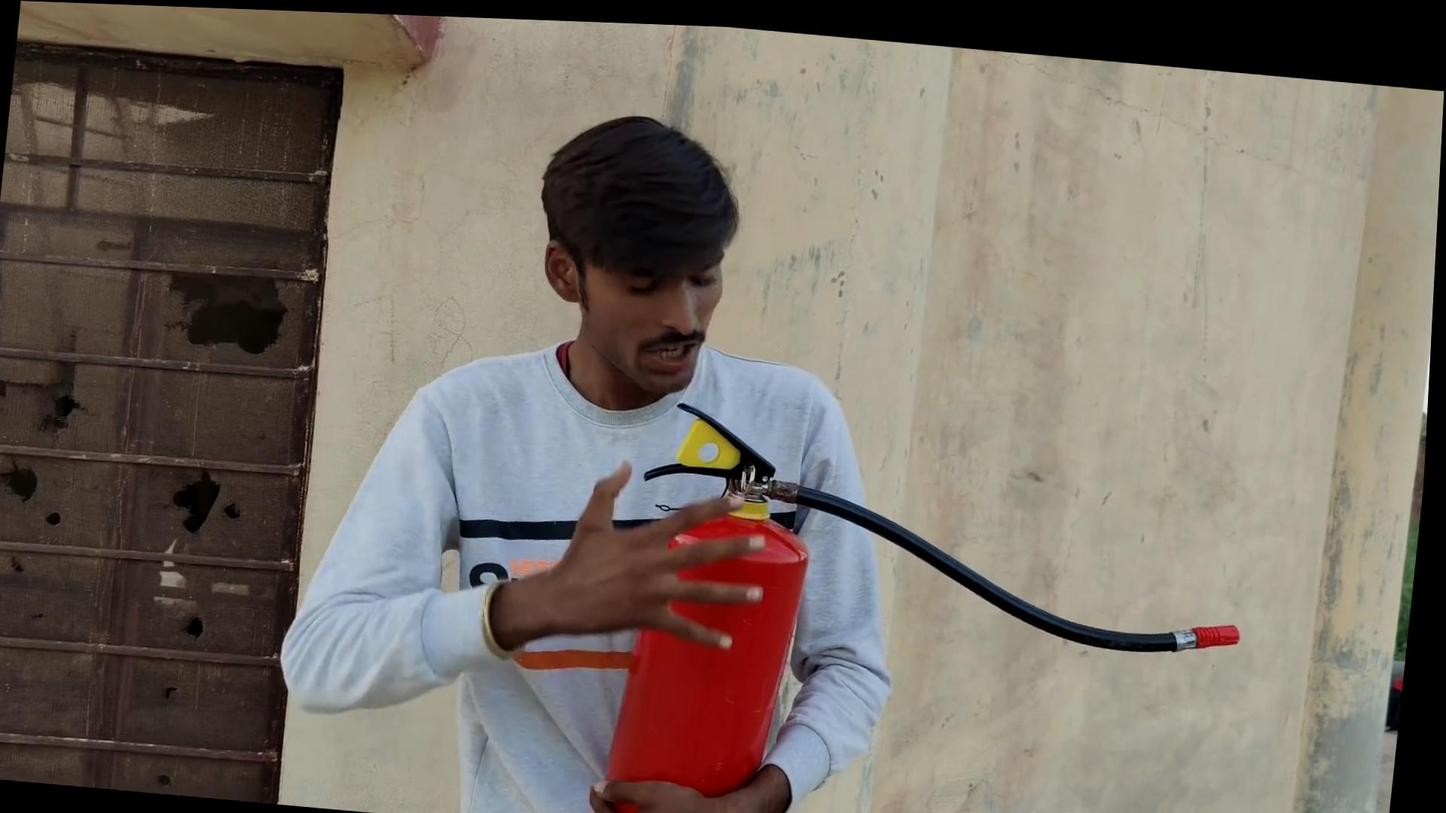FireExtinguisher: (597, 442, 841, 813)
